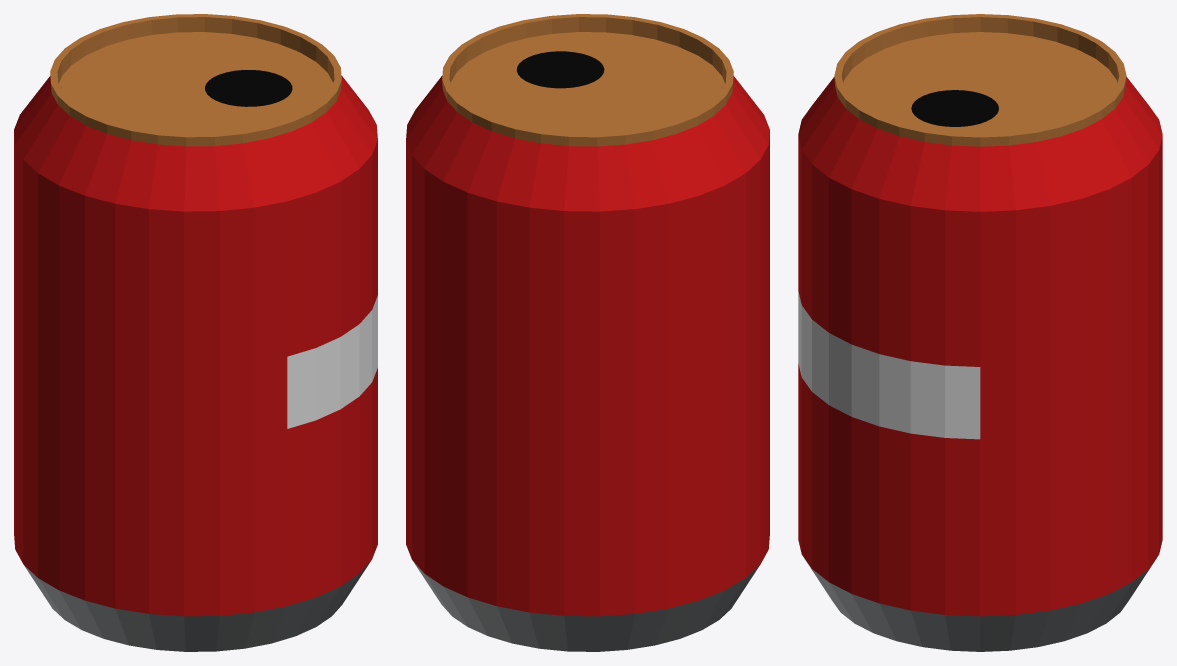
Rendered from koff.fbx.
3 views of the same model, side by side, from view 1: azimuth 30°, elevation 25°; view 2: azimuth 150°, elevation 25°; view 3: azimuth 270°, elevation 25° (orthographic).
Parts seen in each view (by area): view 1: Cylinder; view 2: Cylinder; view 3: Cylinder.
Boxes of the visible parts, left/top/right/bottom form: Cylinder: left=14, top=14, right=377, bottom=651; Cylinder: left=406, top=14, right=769, bottom=651; Cylinder: left=798, top=14, right=1162, bottom=651.
Bounding box in the file's own units: 200 × 310 × 200.
